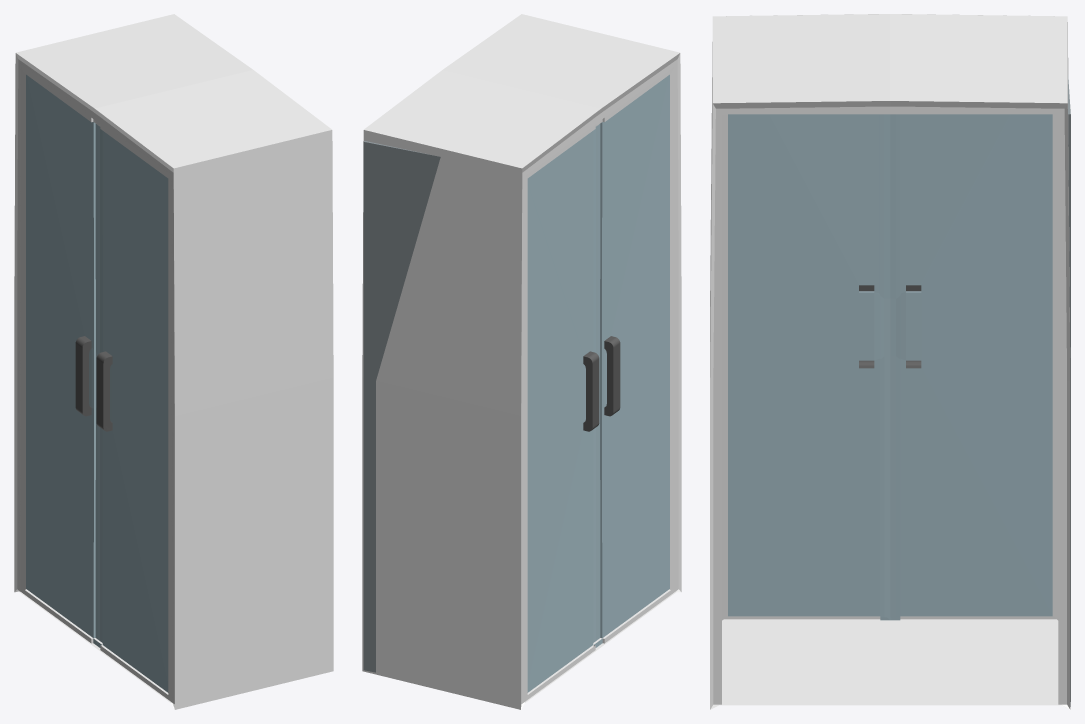
Rendered from P2Cabinet.fbx.
The picture shows the model from 3 angles, left to right: view 1: azimuth 30°, elevation 25°; view 2: azimuth 150°, elevation 25°; view 3: azimuth 270°, elevation 25°; orthographic projection. The views are drawn at different scales.
Parts seen in each view (by area): view 1: cabinet.001, cabinetDoorL, cabinetDoorR; view 2: cabinet.001, cabinetDoorR, cabinetDoorL; view 3: cabinet.001, cabinetDoorL, cabinetDoorR.
Part boxes in pixels (box(x1,y1,x2,y2)): cabinet.001: box(14, 14, 333, 709); cabinetDoorL: box(26, 74, 99, 640); cabinetDoorR: box(96, 127, 168, 692); cabinet.001: box(362, 14, 681, 709); cabinetDoorR: box(596, 74, 669, 640); cabinetDoorL: box(527, 127, 599, 692); cabinet.001: box(710, 14, 1070, 709); cabinetDoorL: box(890, 114, 1052, 617); cabinetDoorR: box(728, 114, 890, 617).
Bounding box in the file's own units: 220 × 696 × 373.
